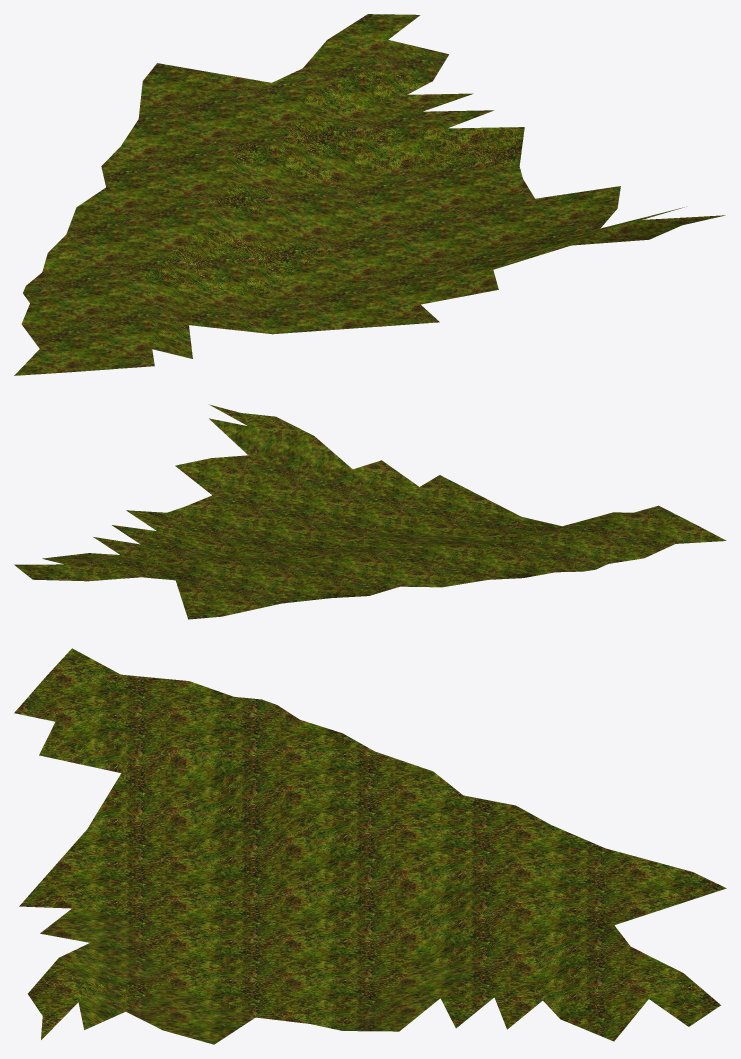
The model's file is TROLLHOLE02_LUKEGROUND03.fbx.
The picture shows the model from 3 angles, top to bottom: view 1: azimuth 30°, elevation 25°; view 2: azimuth 150°, elevation 25°; view 3: azimuth 270°, elevation 25°; orthographic projection. The views are drawn at different scales.
Visible parts, largest first — view 1: TROLLHOLE02_LUKEGROUND03; view 2: TROLLHOLE02_LUKEGROUND03; view 3: TROLLHOLE02_LUKEGROUND03.
Boxes of the visible parts, bbox=[...] form: TROLLHOLE02_LUKEGROUND03: bbox=[14, 14, 725, 375]; TROLLHOLE02_LUKEGROUND03: bbox=[14, 404, 726, 619]; TROLLHOLE02_LUKEGROUND03: bbox=[14, 648, 726, 1044].
Bounding box in the file's own units: 480304 × 19100 × 368766.
1 material, 1 textured.
